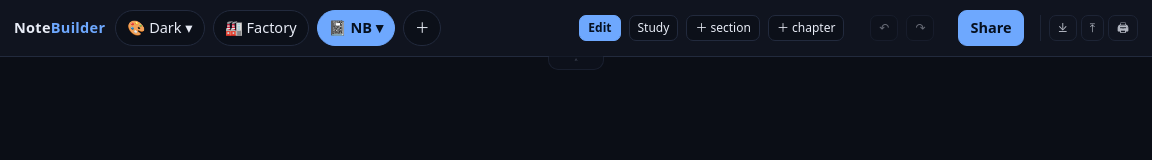
Test: TopBar ＋ new-notebook menu › closes on a second ＋ click, on Escape and on an outside click
Step 1. Click the button "＋" → (422, 28), box [403,10,442,46]
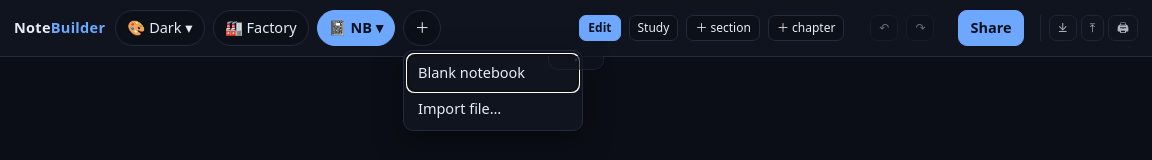
Step 2. Click the button "＋" → (422, 28), box [403,10,442,46]
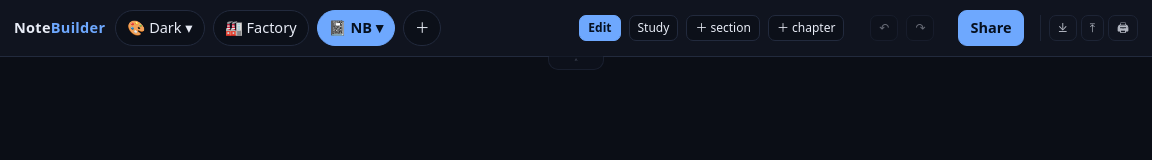
Expected: the menu with class "newmenu" is gone
Step 3. Click the button "＋" → (422, 28), box [403,10,442,46]
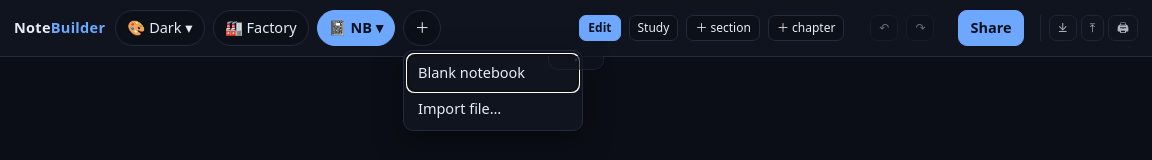
Step 4. Press Escape
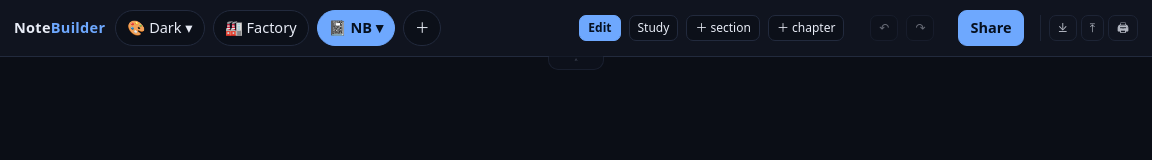
Expected: the menu with class "newmenu" is gone
Step 5. Click the button "＋" → (422, 28), box [403,10,442,46]
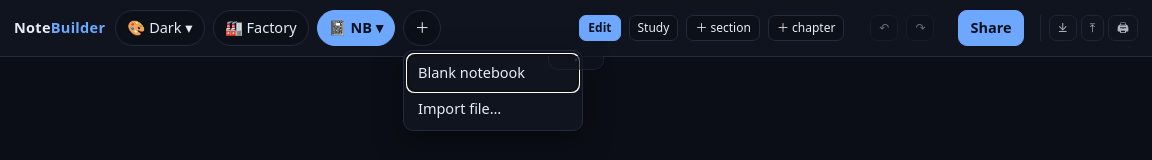
Step 6. Click the element with class "brand" → (60, 28), box [14,17,105,39]
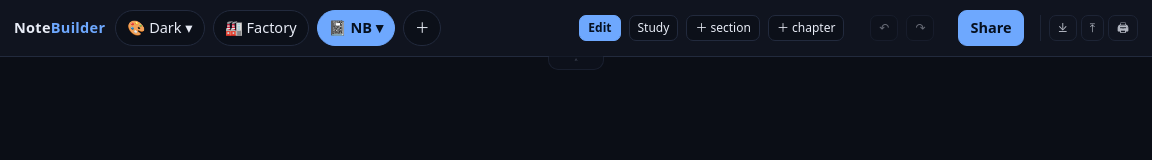
Expected: the menu with class "newmenu" is gone
